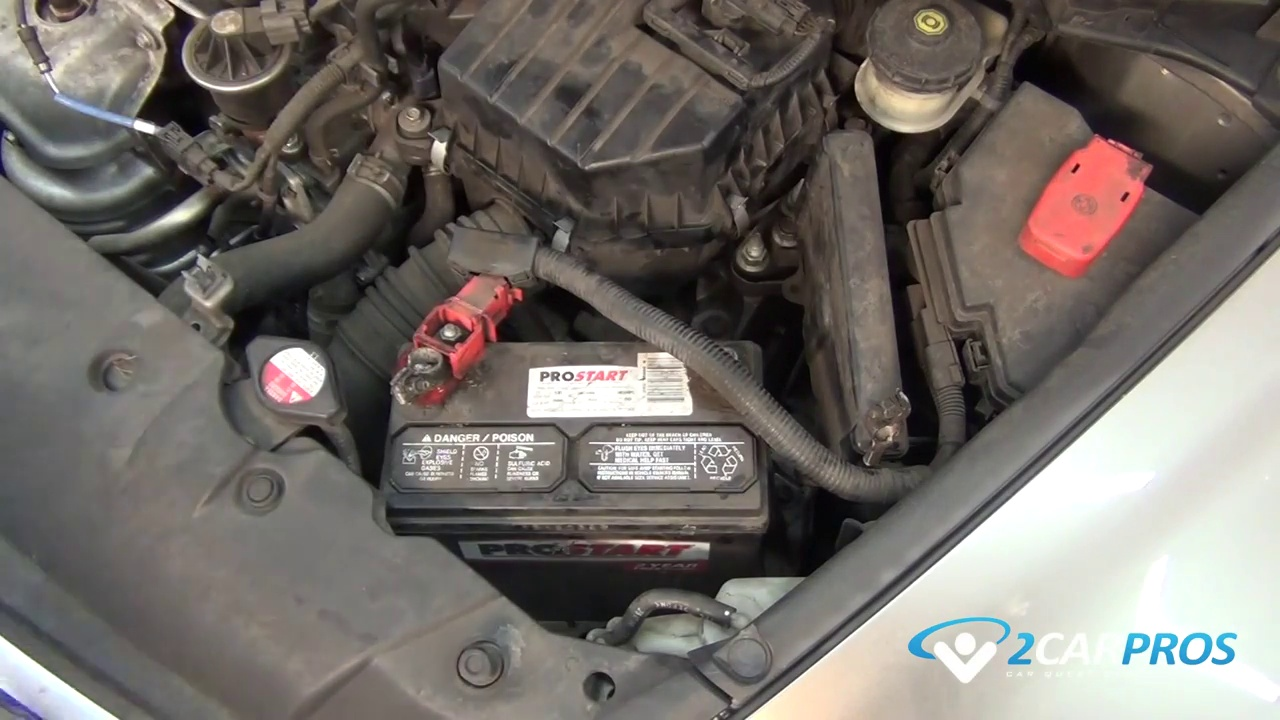battery: (372, 326, 763, 537)
pos_connected: (382, 271, 518, 427)
